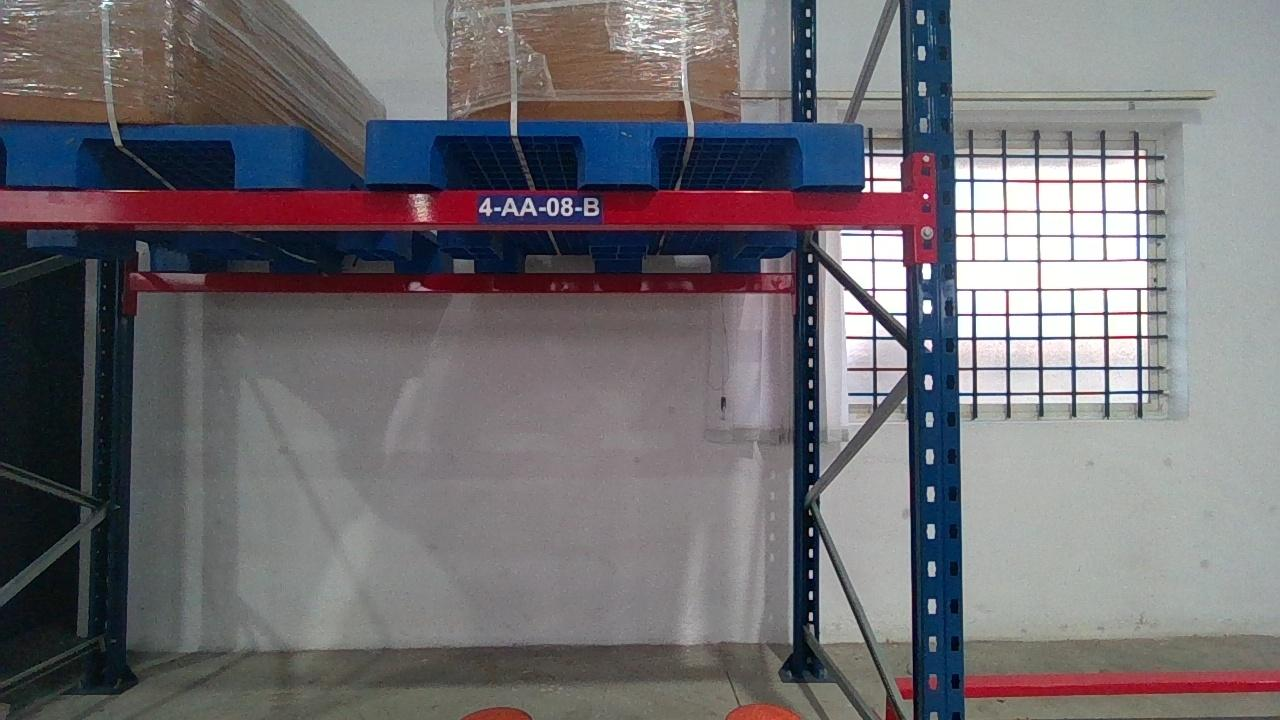h_rack: (2, 187, 915, 226)
small_pallet: (364, 119, 870, 184), (0, 122, 304, 183)
